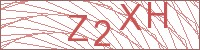2: (93, 20, 111, 47)
H: (146, 1, 168, 29)
X: (119, 2, 143, 31)
Z: (67, 14, 89, 42)
